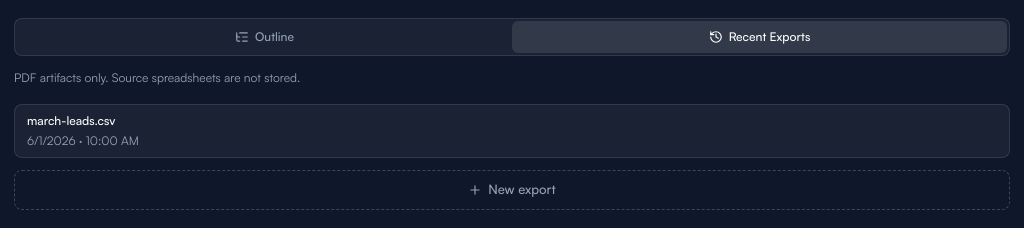
Test: Left rail, Outline / Recent Exports tabs › Outline tab shows the empty state when there are no rendered sections
What coordinates should you click on to do the following:
click the tab "Outline"
I would click on:
 (264, 37)
Its box is [17, 21, 512, 53].
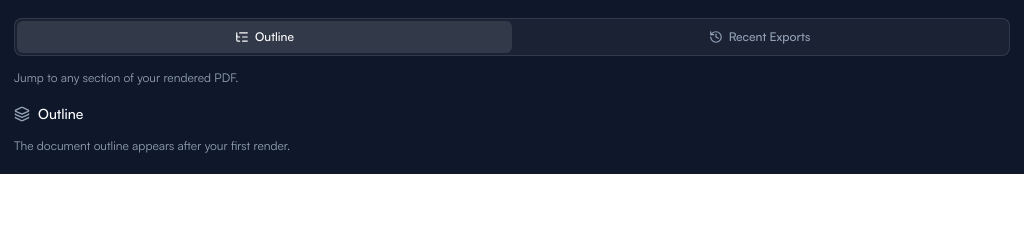
expect the text "The document outline appears after your first render." is shown: met, box [14, 138, 290, 153]
